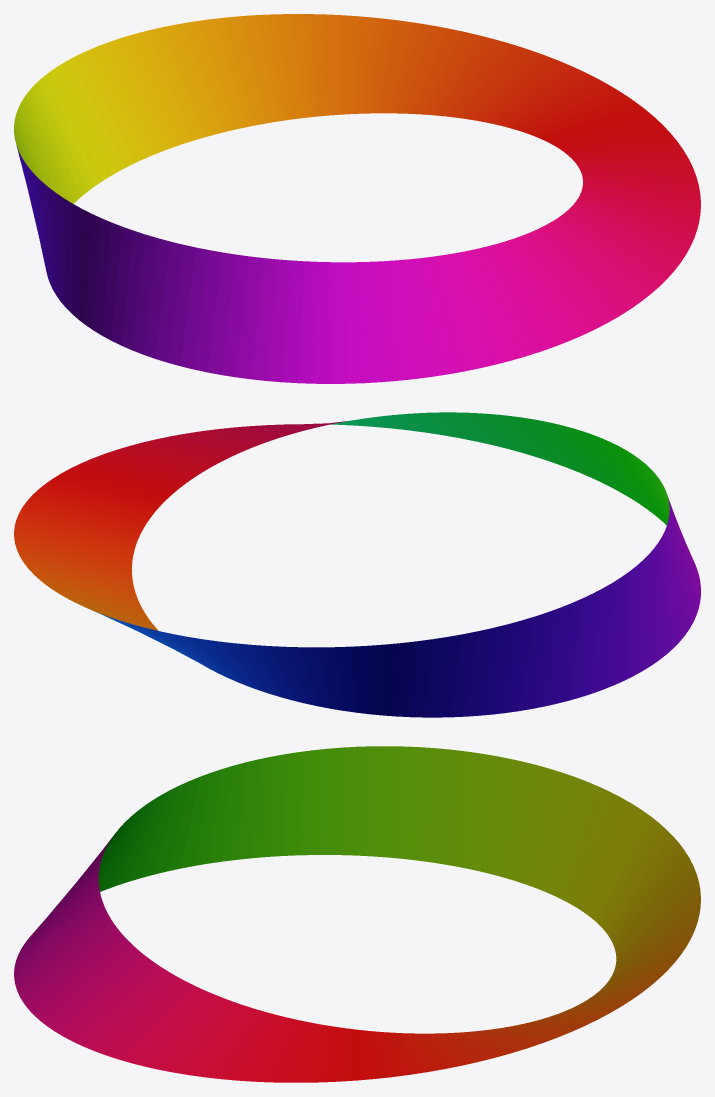
File: mobius.glb
3 views of the same model, one above another, from view 1: azimuth 30°, elevation 25°; view 2: azimuth 150°, elevation 25°; view 3: azimuth 270°, elevation 25° (orthographic).
Visible parts, largest first — view 1: MobiusStrip; view 2: MobiusStrip; view 3: MobiusStrip.
Part boxes in pixels (box(x1,y1,x2,y2)): MobiusStrip: box(14, 14, 700, 383); MobiusStrip: box(14, 412, 700, 717); MobiusStrip: box(14, 746, 700, 1082).
Size of the model in its own units: 2.2 by 0.4 by 2.29.
